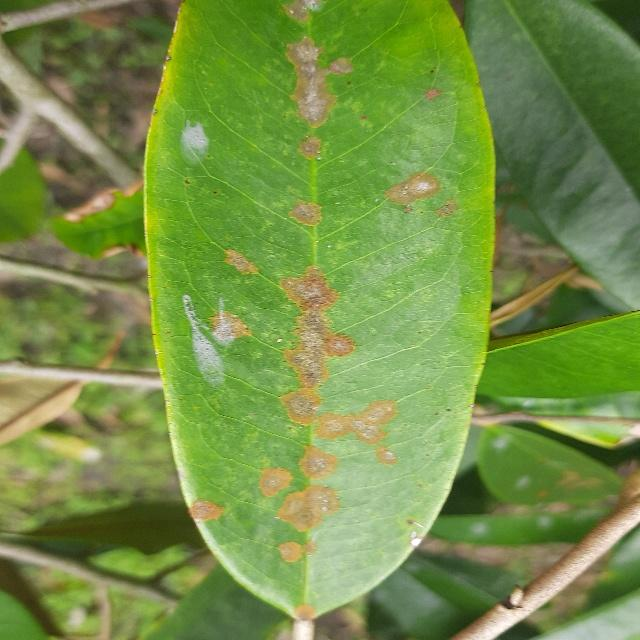Algal Leaf Spot: (135, 0, 503, 621)
